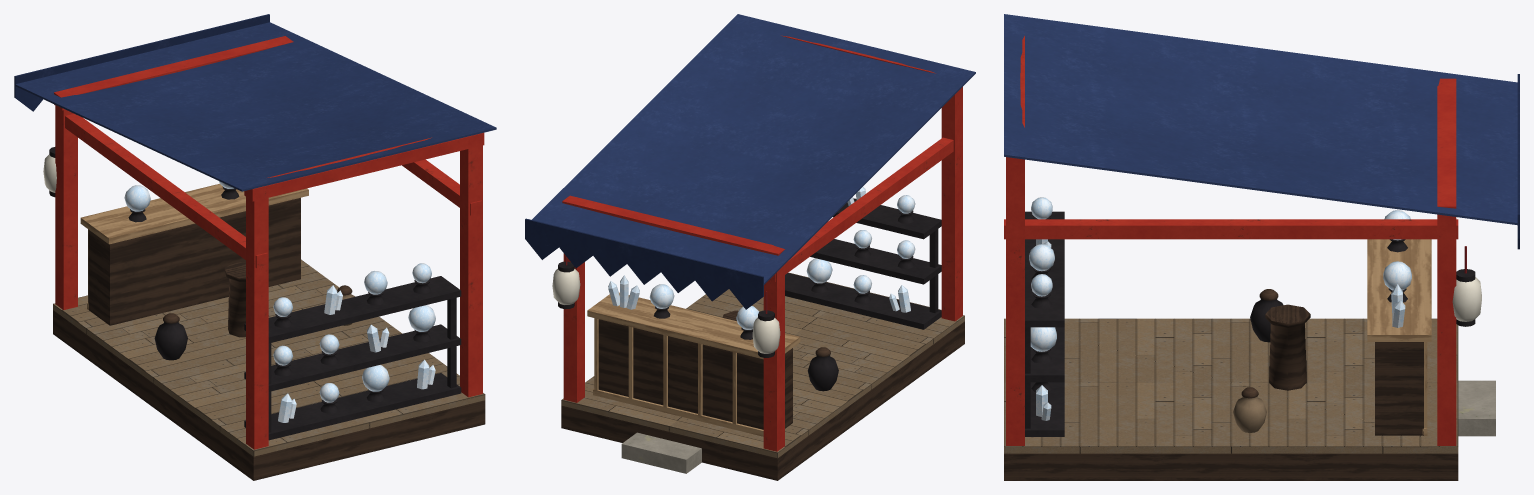
File: HO_Bldg_MagicStall.fbx
3 renders of one model, left to right at view 1: azimuth 30°, elevation 25°; view 2: azimuth 150°, elevation 25°; view 3: azimuth 270°, elevation 25°, orthographic. The views are drawn at different scales.
Parts seen in each view (by area): view 1: HO_Bldg_MagicStall_Structure_GF, HO_Bldg_MagicStall_Canopy, HO_Bldg_MagicStall_Glow; view 2: HO_Bldg_MagicStall_Structure_GF, HO_Bldg_MagicStall_Canopy, HO_Bldg_MagicStall_Glow; view 3: HO_Bldg_MagicStall_Structure_GF, HO_Bldg_MagicStall_Canopy, HO_Bldg_MagicStall_Glow.
Boxes of the visible parts, x1=… form: HO_Bldg_MagicStall_Structure_GF: x1=49, y1=36, x2=485, y2=480; HO_Bldg_MagicStall_Canopy: x1=14, y1=14, x2=496, y2=191; HO_Bldg_MagicStall_Glow: x1=43, y1=154, x2=435, y2=422; HO_Bldg_MagicStall_Structure_GF: x1=558, y1=35, x2=964, y2=480; HO_Bldg_MagicStall_Canopy: x1=525, y1=14, x2=975, y2=309; HO_Bldg_MagicStall_Glow: x1=552, y1=187, x2=915, y2=353; HO_Bldg_MagicStall_Structure_GF: x1=1004, y1=36, x2=1495, y2=480; HO_Bldg_MagicStall_Canopy: x1=1004, y1=14, x2=1519, y2=249; HO_Bldg_MagicStall_Glow: x1=1029, y1=197, x2=1481, y2=420.
Bounding box in the file's own units: 8.8 × 9.7 × 13.63.
